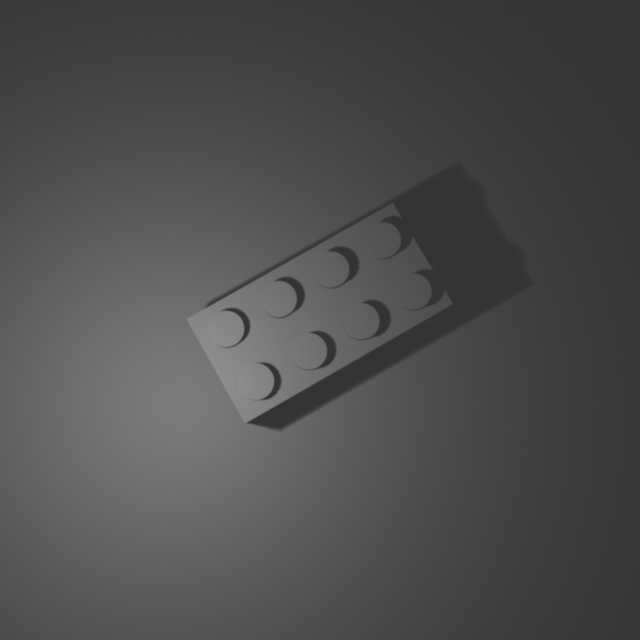lego_2x4: (185, 200, 455, 424)
